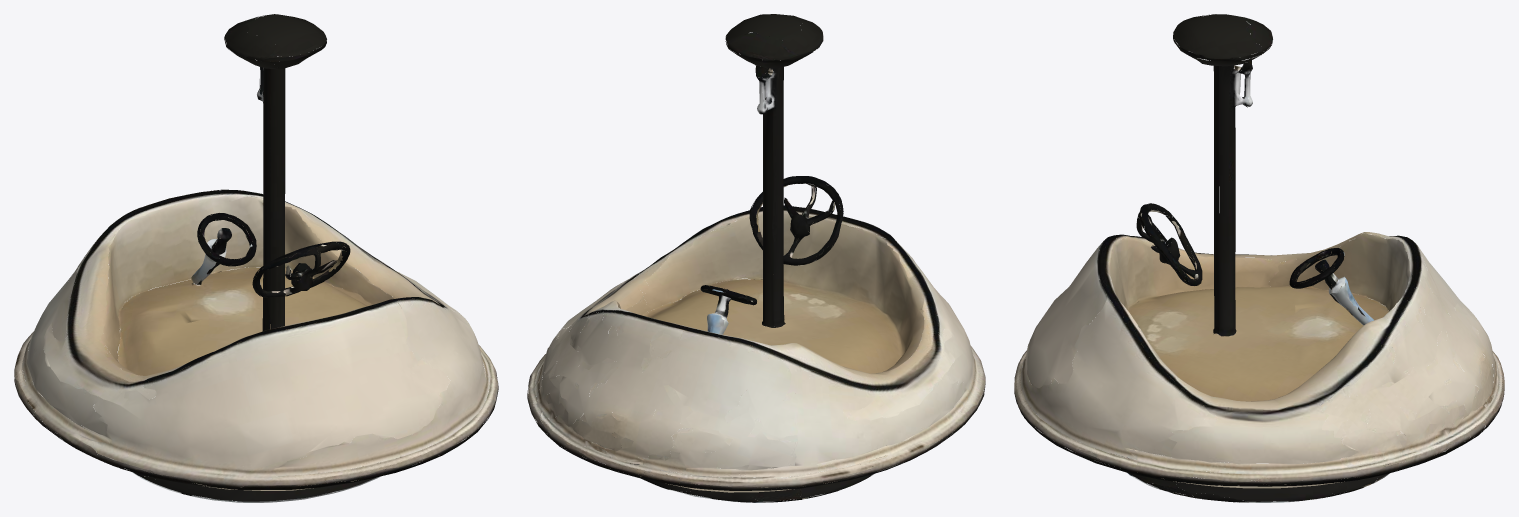
File: bumper.glb
3 views of the same model, side by side, from view 1: azimuth 30°, elevation 25°; view 2: azimuth 150°, elevation 25°; view 3: azimuth 270°, elevation 25° (orthographic). The views are drawn at different scales.
Parts seen in each view (by area): view 1: bumper; view 2: bumper; view 3: bumper.
Boxes of the visible parts, bbox=[...] form: bumper: bbox=[14, 14, 498, 502]; bumper: bbox=[527, 14, 985, 502]; bumper: bbox=[1014, 14, 1504, 502].
Bounding box in the file's own units: 1.46 × 1.46 × 1.55.
Materials: 1 (1 with a texture image).
